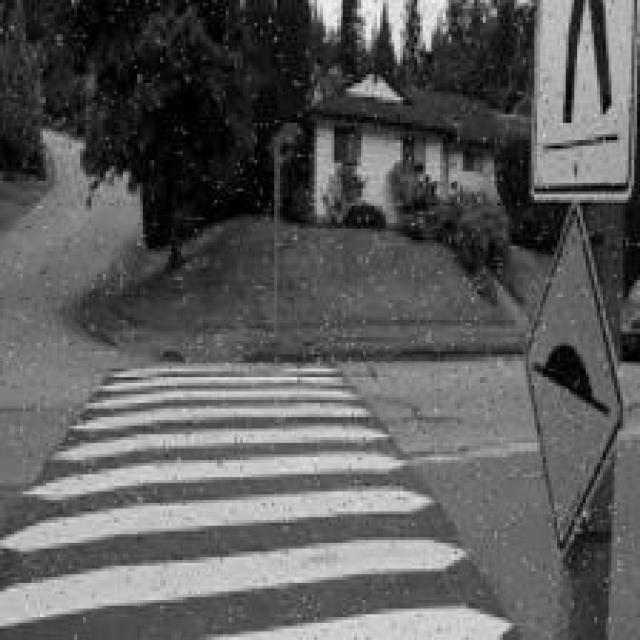crosswalk: (0, 355, 523, 632)
